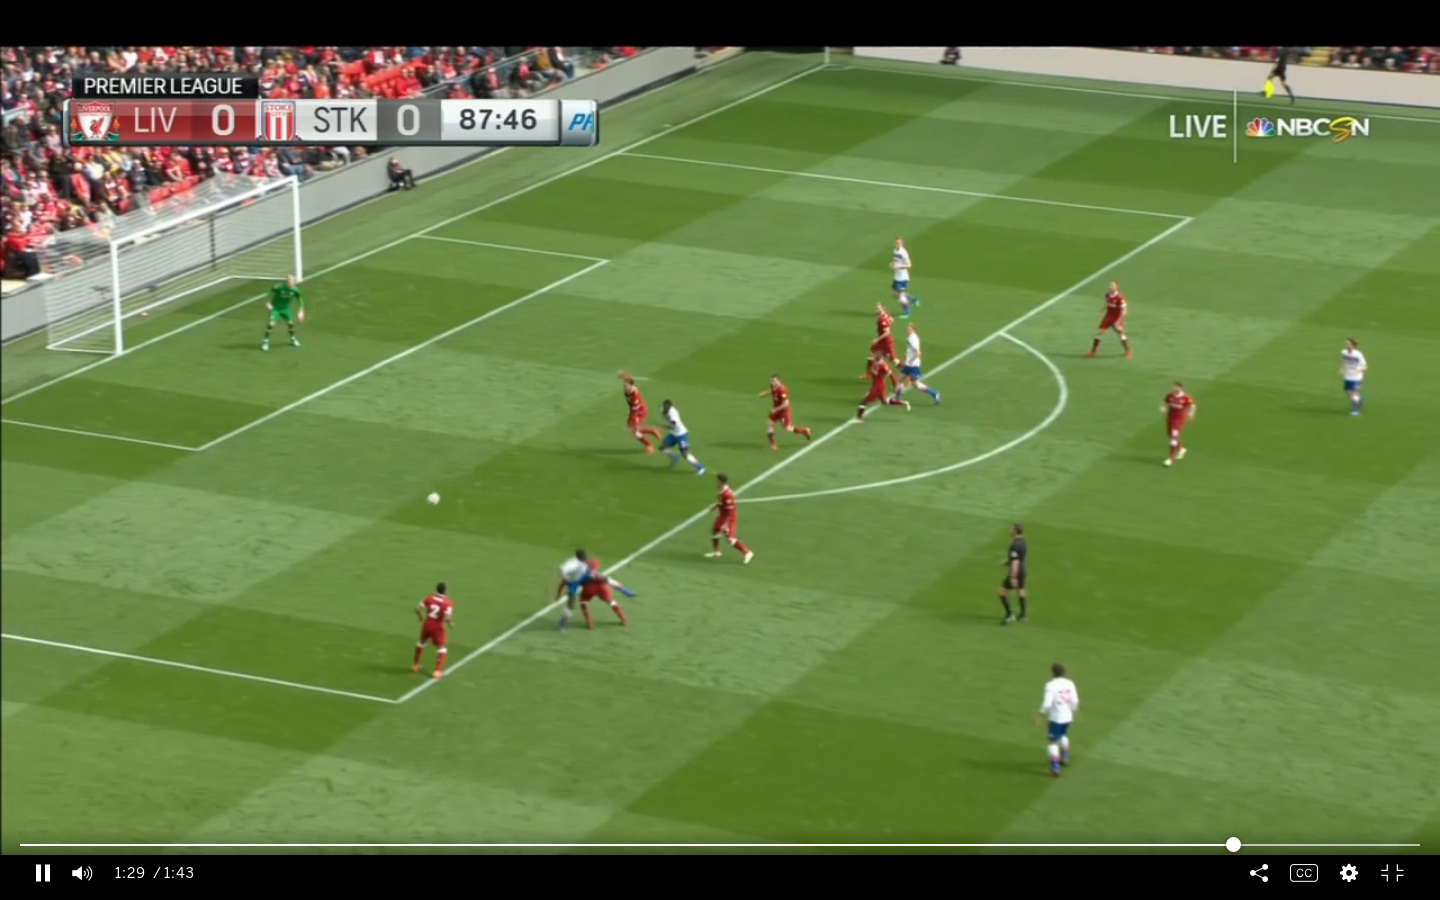referee: (995, 516, 1030, 632)
soccer player: (1033, 663, 1085, 779), (408, 579, 461, 683), (704, 472, 756, 572), (759, 369, 815, 460), (581, 540, 628, 628), (615, 368, 658, 462), (1088, 280, 1135, 366), (1158, 376, 1198, 472), (901, 320, 939, 419), (264, 263, 304, 356), (545, 551, 592, 626), (1335, 328, 1372, 423), (656, 400, 701, 476), (861, 297, 901, 369), (861, 352, 901, 419), (887, 234, 916, 320)
soccerball: (422, 488, 450, 514)
